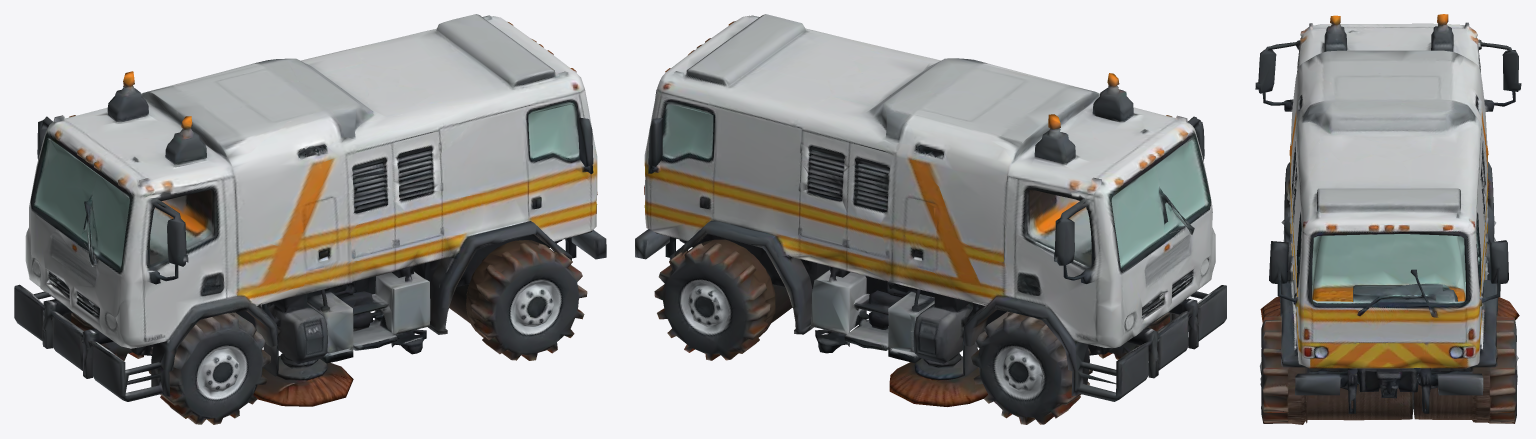
File: sweeper.glb
3 views of the same model, side by side, from view 1: azimuth 30°, elevation 25°; view 2: azimuth 150°, elevation 25°; view 3: azimuth 270°, elevation 25° (orthographic). The views are drawn at different scales.
Parts seen in each view (by area): view 1: tripo_node_f97efcf6-38d0-42ad-bb6b-3c46aecff84d; view 2: tripo_node_f97efcf6-38d0-42ad-bb6b-3c46aecff84d; view 3: tripo_node_f97efcf6-38d0-42ad-bb6b-3c46aecff84d.
Part boxes in pixels (x1=…): tripo_node_f97efcf6-38d0-42ad-bb6b-3c46aecff84d: x1=14, y1=14, x2=606, y2=424; tripo_node_f97efcf6-38d0-42ad-bb6b-3c46aecff84d: x1=635, y1=14, x2=1226, y2=424; tripo_node_f97efcf6-38d0-42ad-bb6b-3c46aecff84d: x1=1255, y1=14, x2=1521, y2=424.
Bounding box in the file's own units: 5.67 × 3.2 × 2.88.
Materials: 1 (1 with a texture image).
